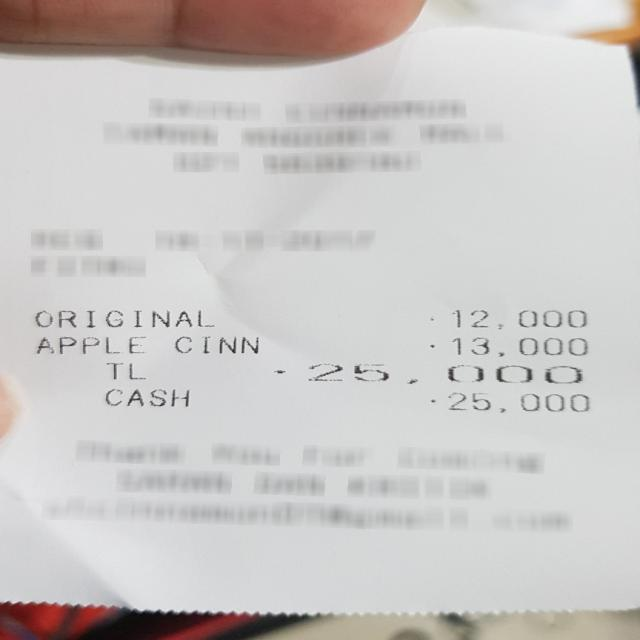kertas: (4, 29, 638, 612)
